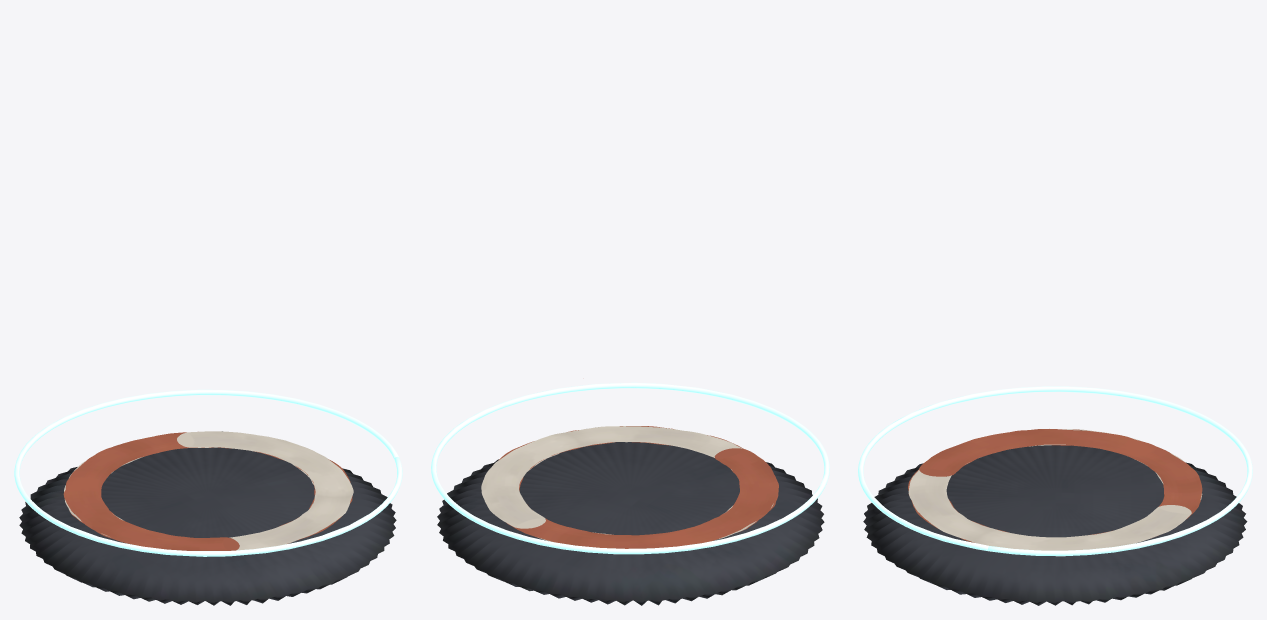
File: adn-del-color.glb
3 views of the same model, side by side, from view 1: azimuth 30°, elevation 25°; view 2: azimuth 150°, elevation 25°; view 3: azimuth 270°, elevation 25° (orthographic). The views are drawn at different scales.
Parts seen in each view (by area): view 1: Pedestal, Cadena_B.001, Cadena_A.001, Anillo_escaneo; view 2: Pedestal, Cadena_B.001, Cadena_A.001, Anillo_escaneo; view 3: Pedestal, Cadena_B.001, Cadena_A.001, Anillo_escaneo.
Boxes of the visible parts, x1,y1,x2,y2 form: Pedestal: (19, 447, 396, 605); Cadena_B.001: (63, 432, 352, 550); Cadena_A.001: (64, 431, 353, 550); Anillo_escaneo: (14, 389, 402, 556); Pedestal: (437, 442, 824, 605); Cadena_B.001: (498, 426, 778, 548); Cadena_A.001: (481, 426, 773, 542); Anillo_escaneo: (431, 382, 829, 554); Pedestal: (863, 445, 1247, 605); Cadena_B.001: (908, 429, 1202, 542); Cadena_A.001: (908, 429, 1202, 550); Anillo_escaneo: (858, 386, 1252, 556).
Size of the model in its own units: 3.55 by 5.11 by 3.55.
28 materials, 27 textured.
